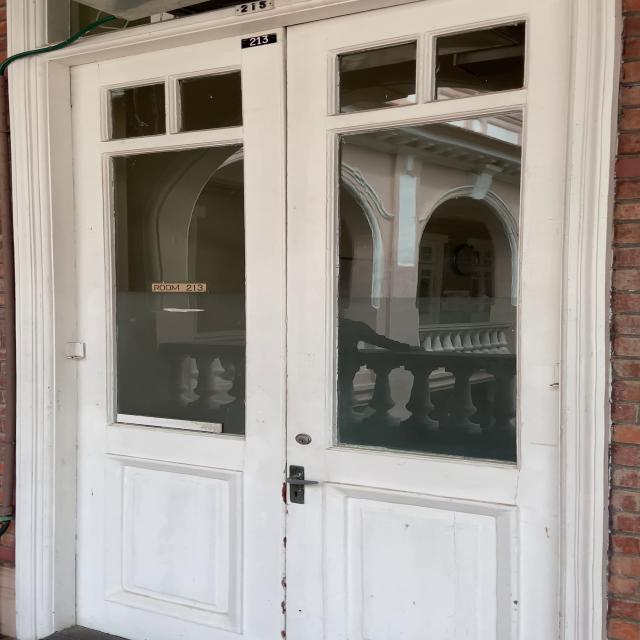room213: (240, 31, 280, 50)
room213Window: (141, 278, 216, 293)
